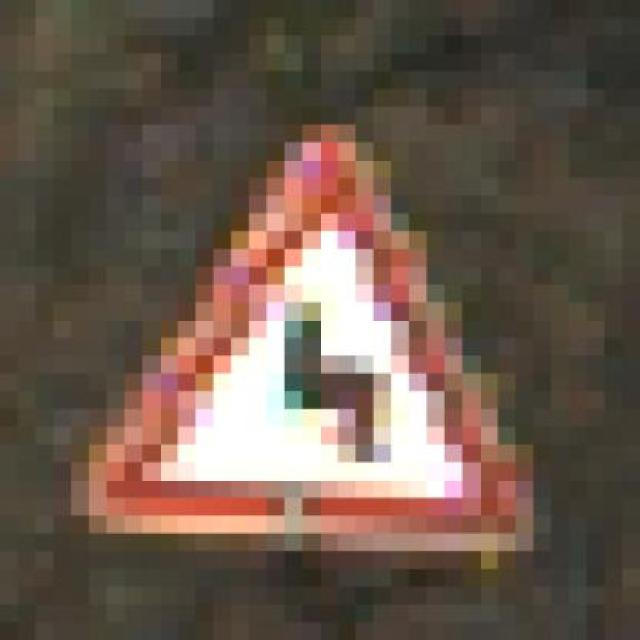Left Zig Zag Traffic: (66, 87, 565, 602)
